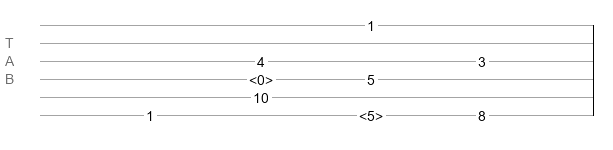1: (146, 108, 154, 118), (367, 18, 375, 28)
10: (253, 90, 269, 100)
3: (478, 54, 486, 64)
4: (257, 54, 265, 64)
5: (367, 72, 375, 82)
8: (478, 108, 486, 118)
harmonic: (249, 72, 273, 82), (359, 108, 383, 118)
